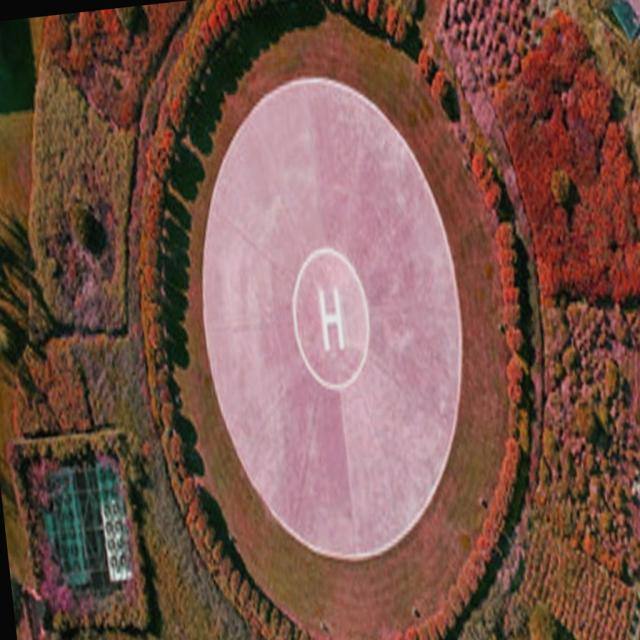helipad: (286, 243, 378, 392)
